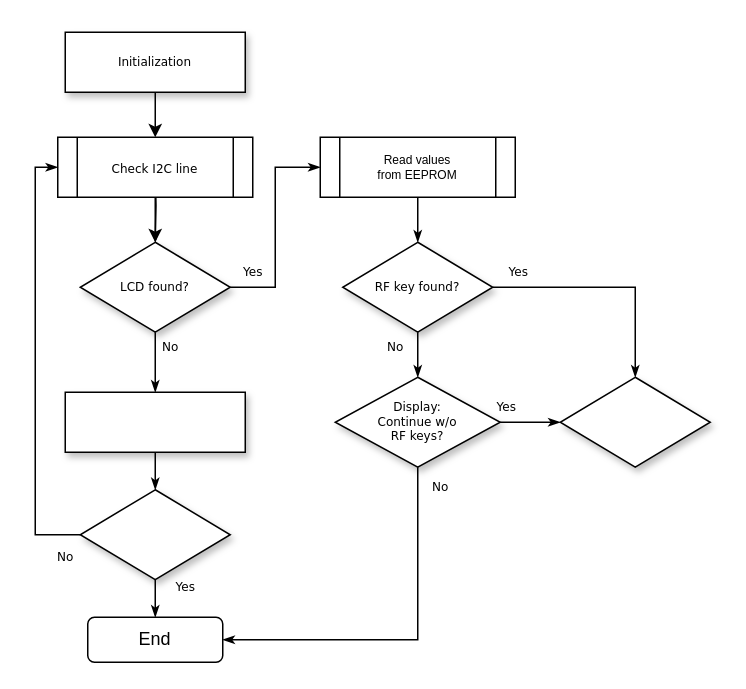
Some shapes in this 746 by 689 pixel diagram are drawn without their labels. Here are the shapes that lost their labels. From the top down, the centre of each, then its label:
At (156,424): "Set alarm (low volume) 1 s cycle".
At (636,424): "Alarms found?".
At (156,536): "1 min w/o LCD?".
